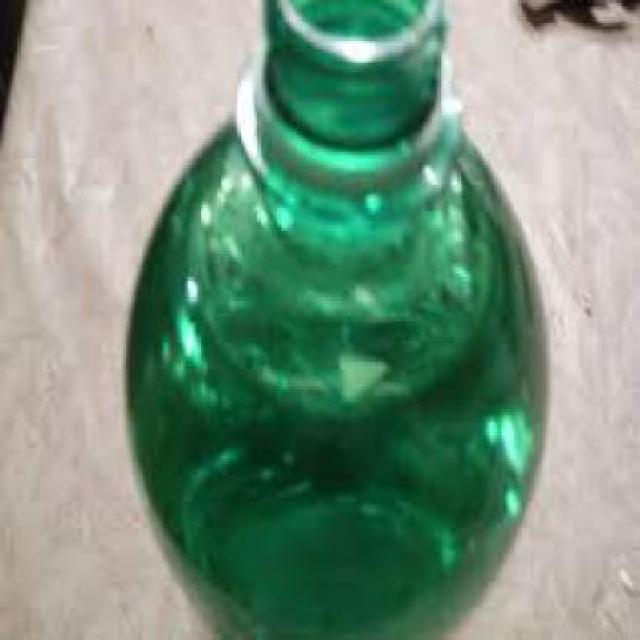GLASS: (123, 0, 542, 637)
